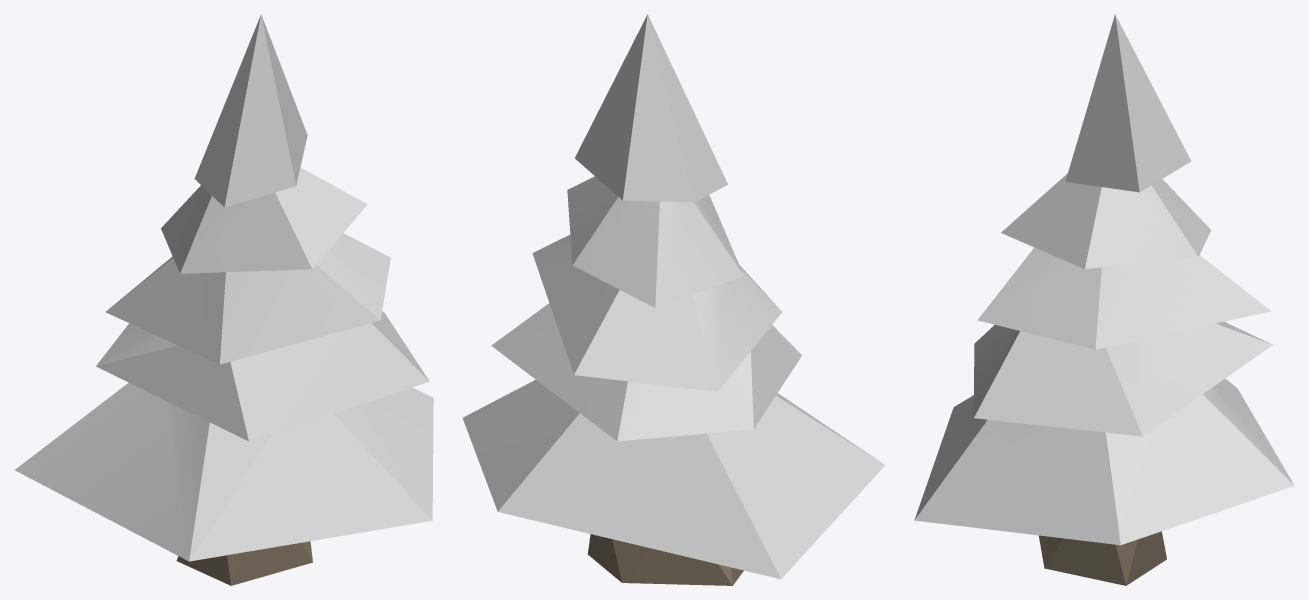
File: Tree_Pine_Snow_01.fbx
3 views of the same model, side by side, from view 1: azimuth 30°, elevation 25°; view 2: azimuth 150°, elevation 25°; view 3: azimuth 270°, elevation 25° (orthographic). The views are drawn at different scales.
Parts seen in each view (by area): view 1: Tree_Pine_Snow_01; view 2: Tree_Pine_Snow_01; view 3: Tree_Pine_Snow_01.
Boxes of the visible parts, left/top/right/bottom form: Tree_Pine_Snow_01: left=14, top=14, right=433, bottom=585; Tree_Pine_Snow_01: left=462, top=14, right=885, bottom=585; Tree_Pine_Snow_01: left=914, top=14, right=1294, bottom=585.
Size of the model in its own units: 51.54 by 71.68 by 45.29.
